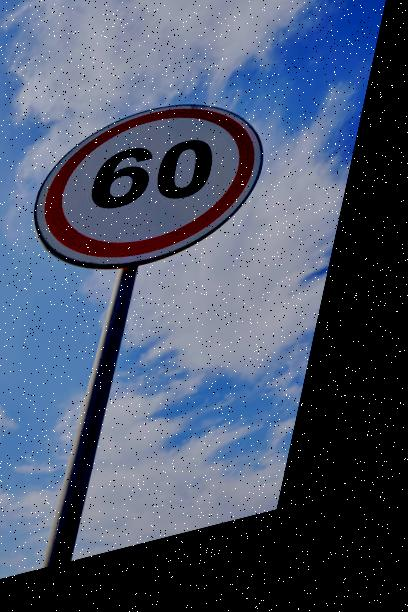Speed Limit -60-: (28, 89, 291, 301)
